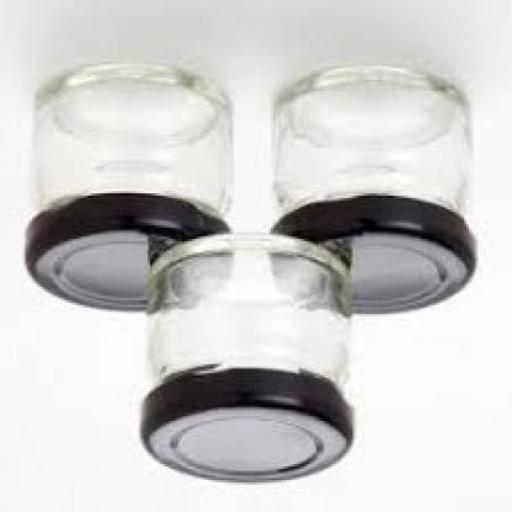glass: (141, 232, 353, 392), (272, 64, 474, 212), (30, 71, 230, 216)
metal: (264, 198, 473, 321), (23, 196, 227, 314), (137, 374, 353, 484)
